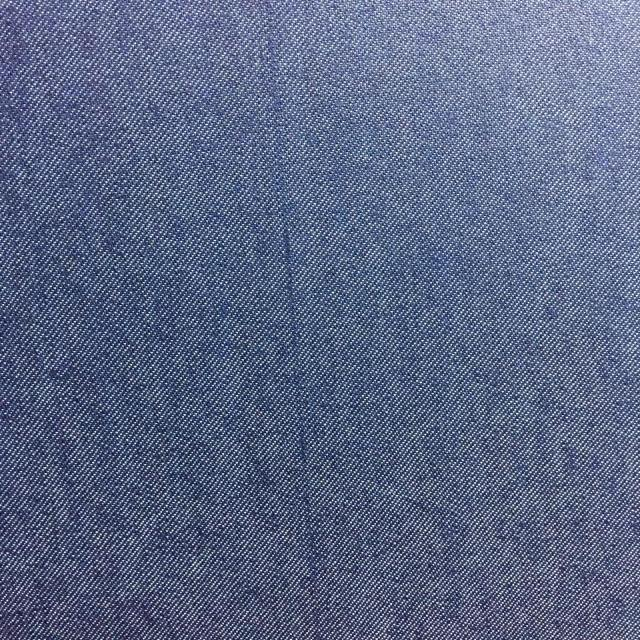Line: (257, 3, 328, 640)
